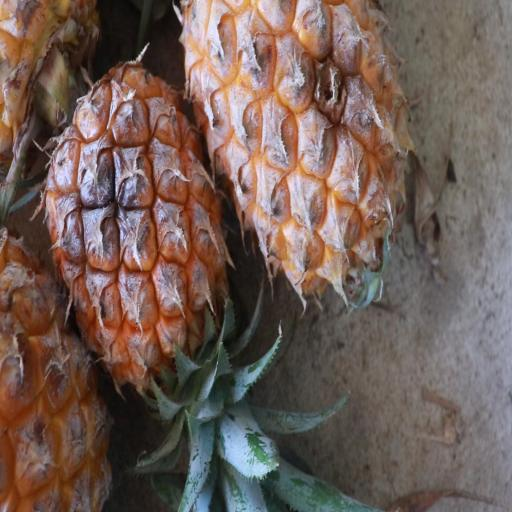Pineapple - v8 v1: (164, 0, 404, 327), (36, 55, 228, 459)
